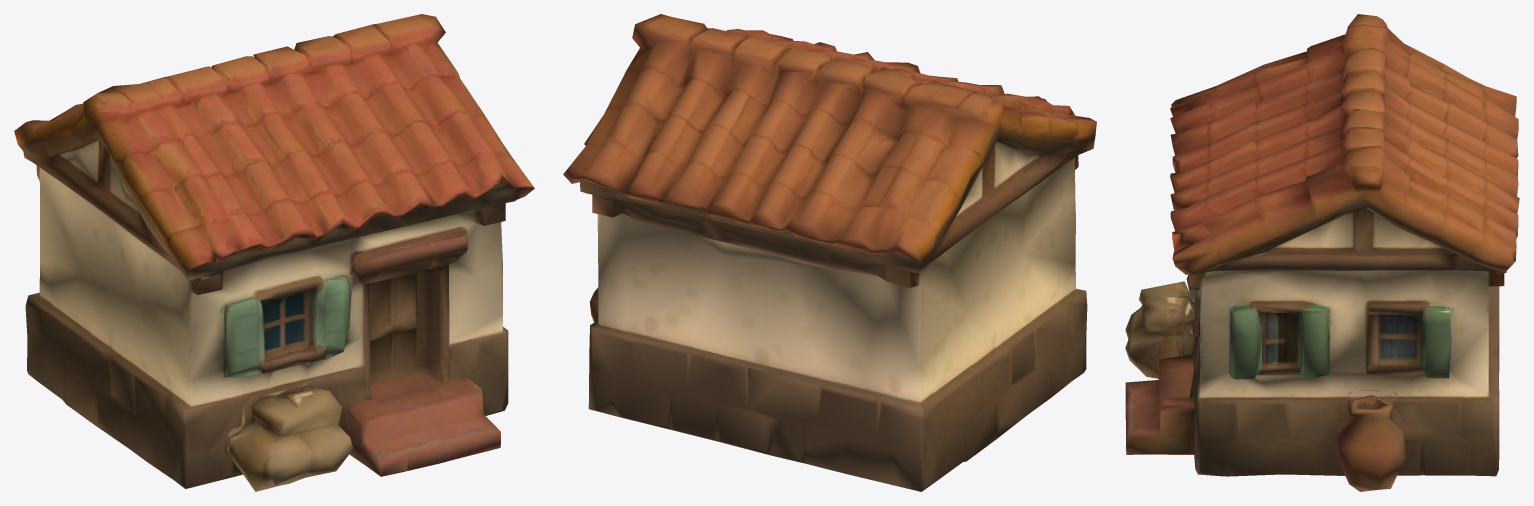
The model's file is Latin_American_Cottag_0726160158_texture.fbx.
The picture shows the model from 3 angles, left to right: view 1: azimuth 30°, elevation 25°; view 2: azimuth 150°, elevation 25°; view 3: azimuth 270°, elevation 25°; orthographic projection. The views are drawn at different scales.
Visible parts, largest first — view 1: Mesh1; view 2: Mesh1; view 3: Mesh1.
Part boxes in pixels (x1,y1,x2,y2): Mesh1: (14, 14, 534, 491); Mesh1: (563, 14, 1096, 491); Mesh1: (1125, 14, 1519, 491).
Bounding box in the file's own units: 200 × 161 × 184.
1 material, 1 textured.
